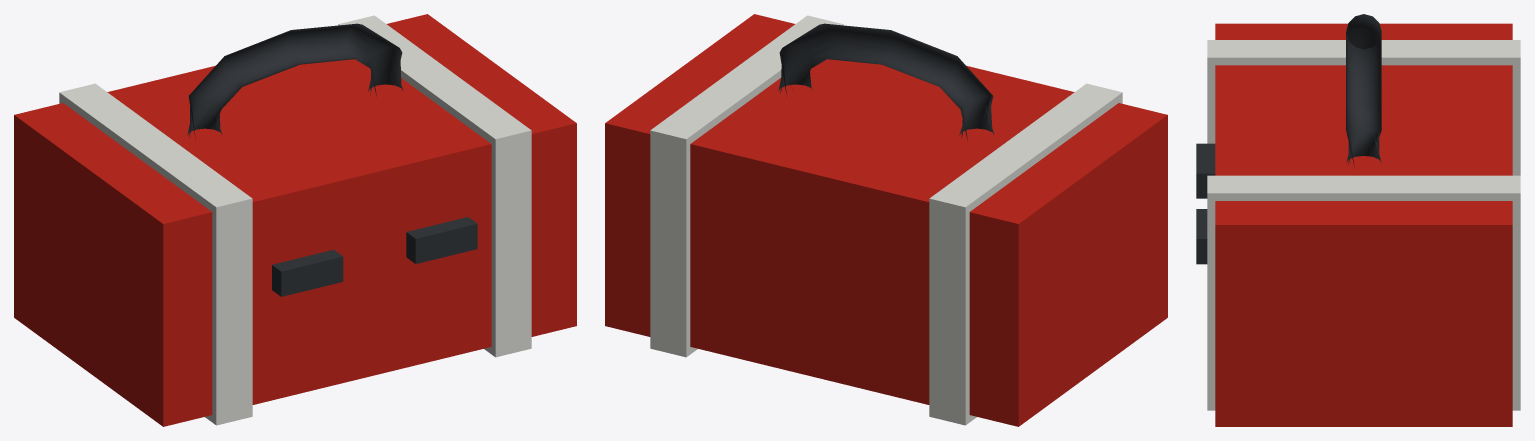
File: medical_case_low.glb
The picture shows the model from 3 angles, left to right: view 1: azimuth 30°, elevation 25°; view 2: azimuth 150°, elevation 25°; view 3: azimuth 270°, elevation 25°; orthographic projection.
Parts seen in each view (by area): view 1: medical_case_LOW_body, medical_case_LOW_band_left, medical_case_LOW_band_right, medical_case_LOW_handle, medical_case_LOW_latch_left, medical_case_LOW_latch_right; view 2: medical_case_LOW_body, medical_case_LOW_band_left, medical_case_LOW_band_right, medical_case_LOW_handle; view 3: medical_case_LOW_body, medical_case_LOW_band_right, medical_case_LOW_band_left, medical_case_LOW_handle, medical_case_LOW_latch_left, medical_case_LOW_latch_right.
Part boxes in pixels (<box>): medical_case_LOW_body: <box>14,14,576,426</box>; medical_case_LOW_band_left: <box>59,83,252,425</box>; medical_case_LOW_band_right: <box>338,15,531,357</box>; medical_case_LOW_handle: <box>187,23,403,138</box>; medical_case_LOW_latch_left: <box>272,249,343,296</box>; medical_case_LOW_latch_right: <box>406,217,477,263</box>; medical_case_LOW_body: <box>605,14,1167,426</box>; medical_case_LOW_band_left: <box>929,83,1122,425</box>; medical_case_LOW_band_right: <box>650,15,843,357</box>; medical_case_LOW_handle: <box>778,23,994,141</box>; medical_case_LOW_body: <box>1215,23,1512,426</box>; medical_case_LOW_band_right: <box>1207,175,1520,410</box>; medical_case_LOW_band_left: <box>1207,40,1520,175</box>; medical_case_LOW_handle: <box>1346,14,1381,167</box>; medical_case_LOW_latch_left: <box>1196,143,1215,198</box>; medical_case_LOW_latch_right: <box>1196,209,1207,264</box>.
Size of the model in its own units: 4.8 by 3.31 by 3.27.
3 materials, 1 textured.
